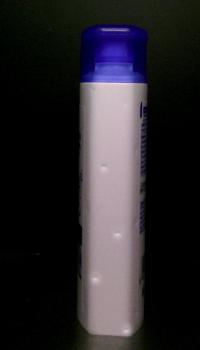dent_marginal: (107, 220, 127, 245), (87, 267, 107, 291), (116, 317, 132, 338), (96, 159, 114, 176)
dent_unacceptable: (97, 156, 113, 177)
